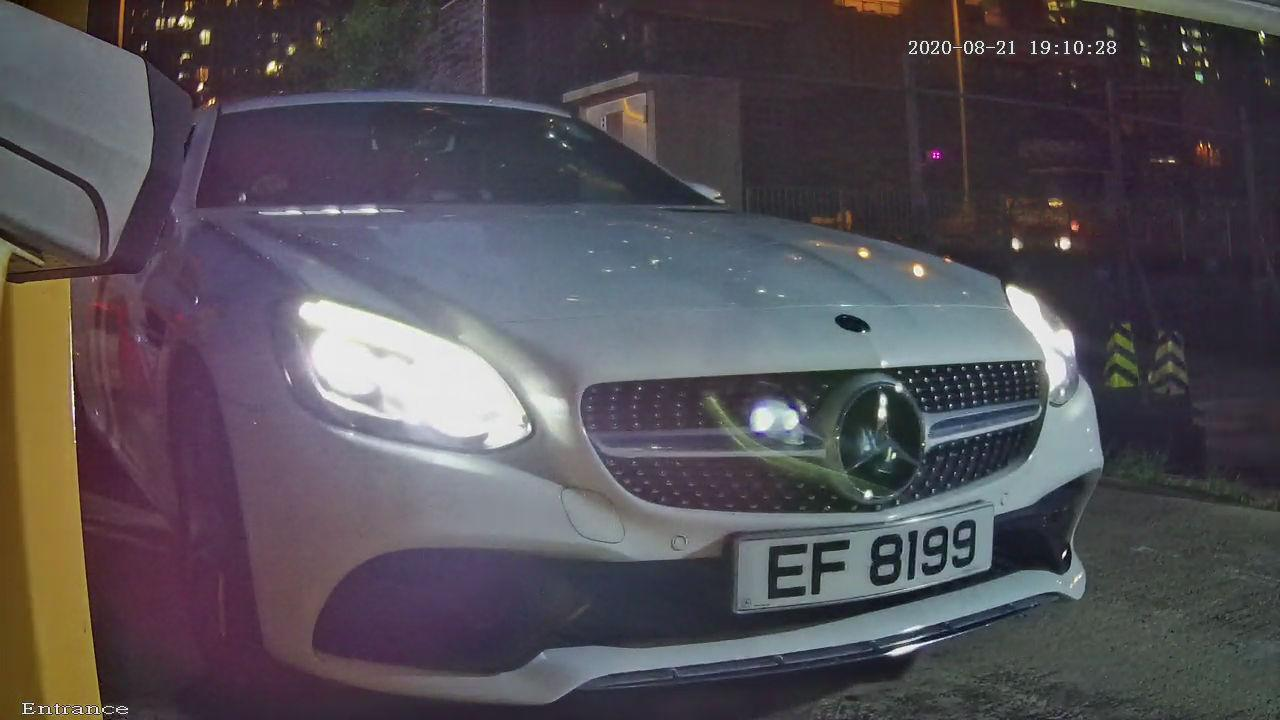Car: (41, 1, 1195, 720)
License Plate: (700, 487, 1024, 651)
